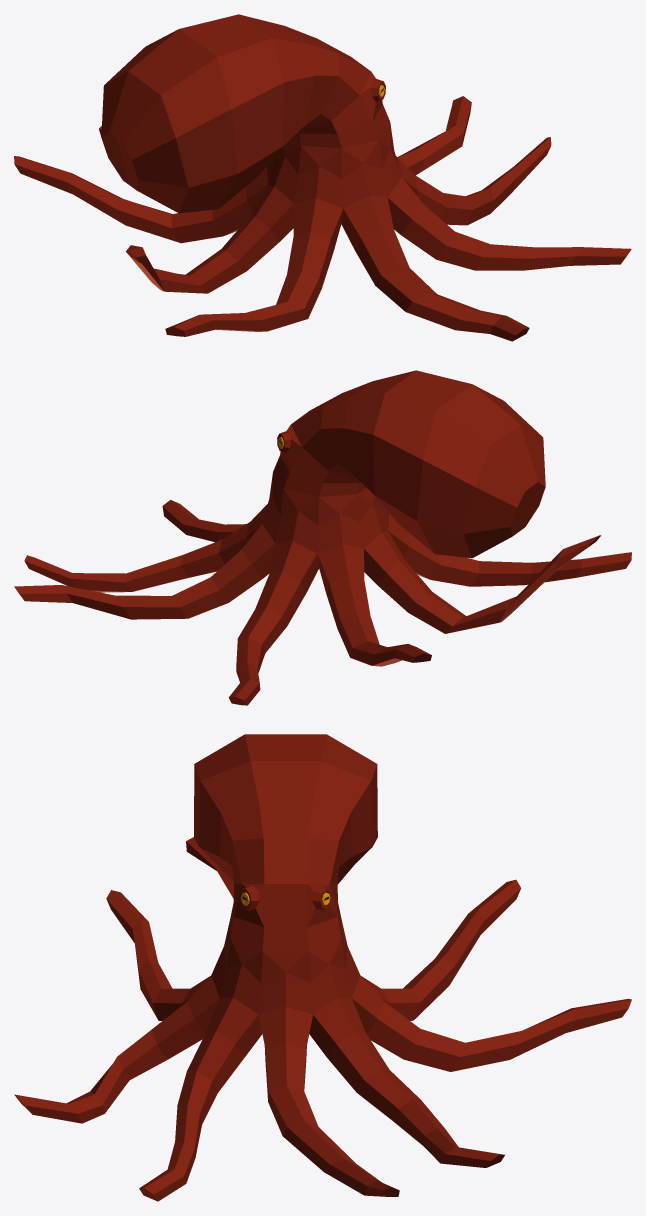
The model's file is octopus.glb.
3 views of the same model, one above another, from view 1: azimuth 30°, elevation 25°; view 2: azimuth 150°, elevation 25°; view 3: azimuth 270°, elevation 25° (orthographic). The views are drawn at different scales.
Parts seen in each view (by area): view 1: Cylinder; view 2: Cylinder; view 3: Cylinder.
Boxes of the visible parts, box(x1,y1,x2,y2) form: Cylinder: box(14, 14, 631, 341); Cylinder: box(14, 370, 631, 705); Cylinder: box(14, 734, 631, 1201).
Size of the model in its own units: 10.54 by 5.25 by 10.29.
Materials: 1 (1 with a texture image).
